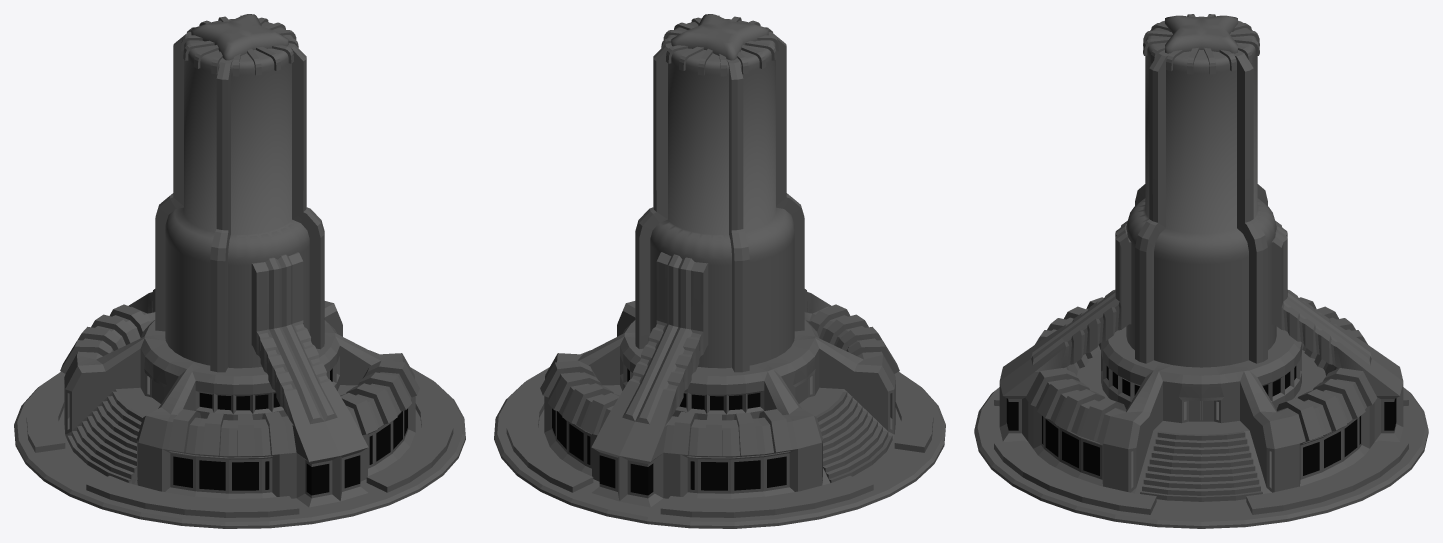
Rendered from EductaionCentre_A.dae.
3 views of the same model, side by side, from view 1: azimuth 30°, elevation 25°; view 2: azimuth 150°, elevation 25°; view 3: azimuth 270°, elevation 25° (orthographic).
Parts seen in each view (by area): view 1: EductaionCentre_A; view 2: EductaionCentre_A; view 3: EductaionCentre_A.
Part boxes in pixels (x1,y1,x2,y2): EductaionCentre_A: (14,14,465,528); EductaionCentre_A: (494,14,945,528); EductaionCentre_A: (974,14,1428,528).
Bounding box in the file's own units: 90 × 90 × 88.75.
